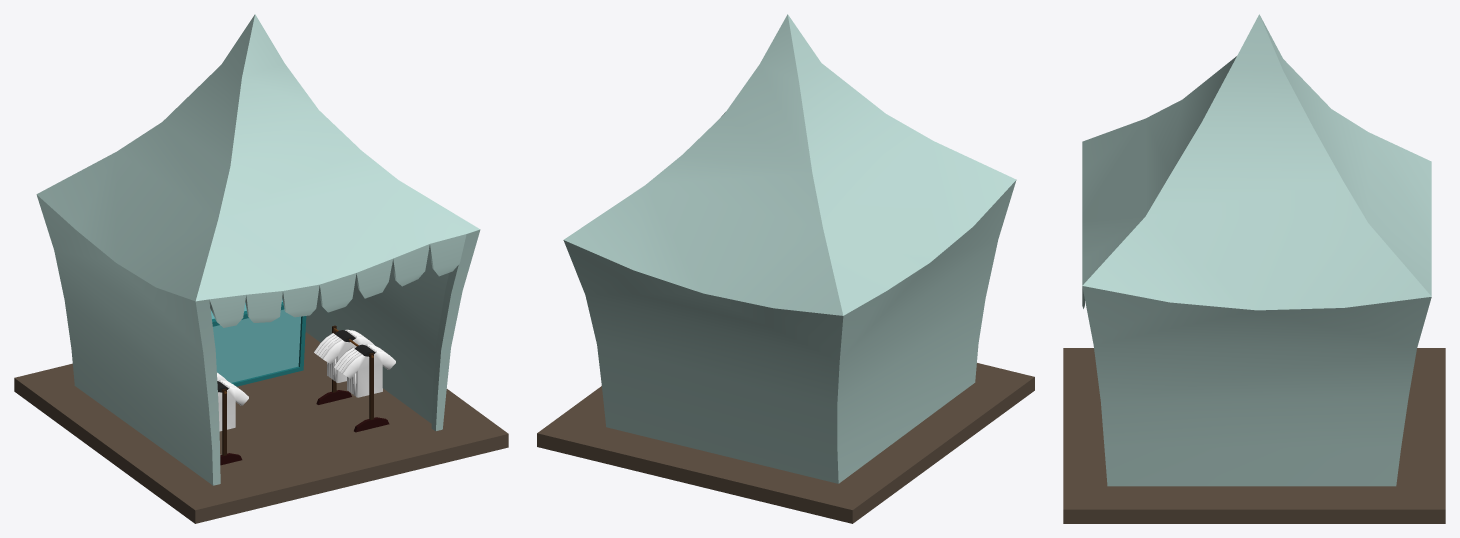
File: b_jakcloth_tent.FBX
3 views of the same model, side by side, from view 1: azimuth 30°, elevation 25°; view 2: azimuth 150°, elevation 25°; view 3: azimuth 270°, elevation 25° (orthographic). The views are drawn at different scales.
Parts seen in each view (by area): view 1: Tent; view 2: Tent; view 3: Tent.
Boxes of the visible parts, <box> form: Tent: <box>14,14,508,523</box>; Tent: <box>537,14,1034,523</box>; Tent: <box>1063,14,1445,523</box>.
Bounding box in the file's own units: 1011 × 1247 × 1011.
